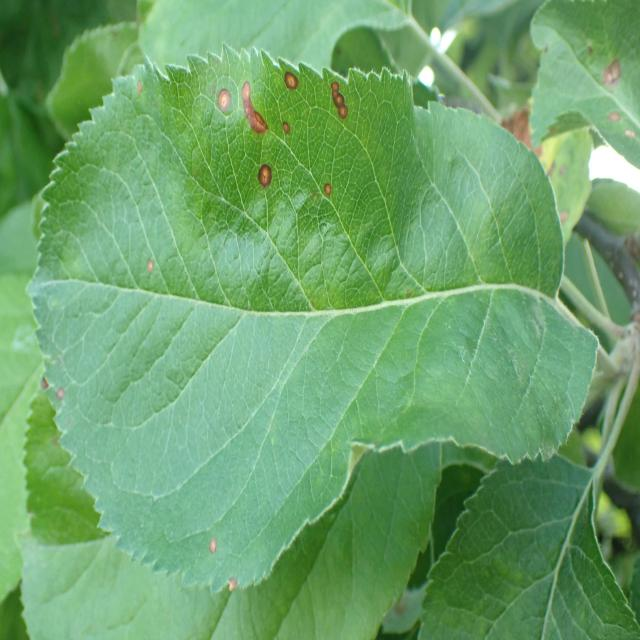Black Rot: (229, 58, 280, 158), (314, 58, 358, 123), (276, 53, 306, 108), (306, 155, 334, 207), (203, 82, 239, 122), (251, 160, 283, 194), (279, 113, 296, 152)
